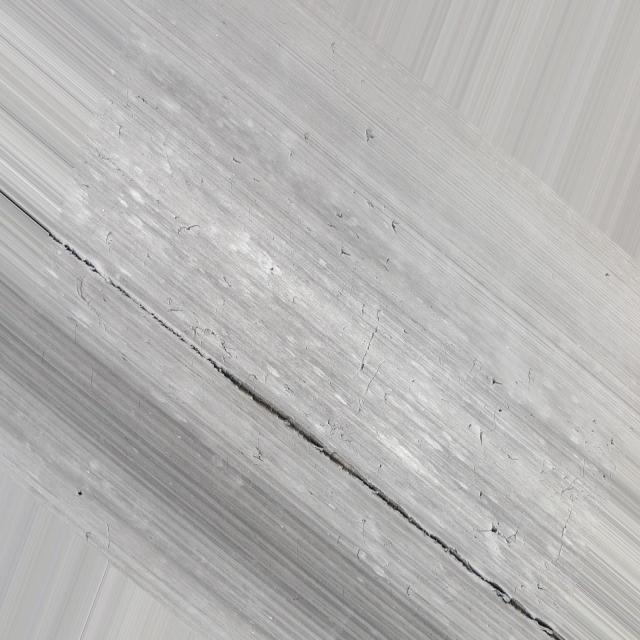Puncture: (336, 241, 358, 261), (387, 217, 402, 233), (474, 484, 488, 500), (491, 379, 501, 386), (492, 526, 498, 531)
Tear: (48, 232, 554, 636)
